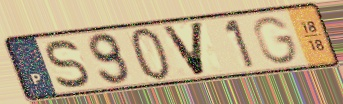0: (129, 26, 174, 83)
1: (223, 17, 258, 72)
9: (85, 30, 134, 87)
G: (251, 14, 301, 66)
S: (44, 38, 92, 91)
V: (158, 19, 207, 78)
